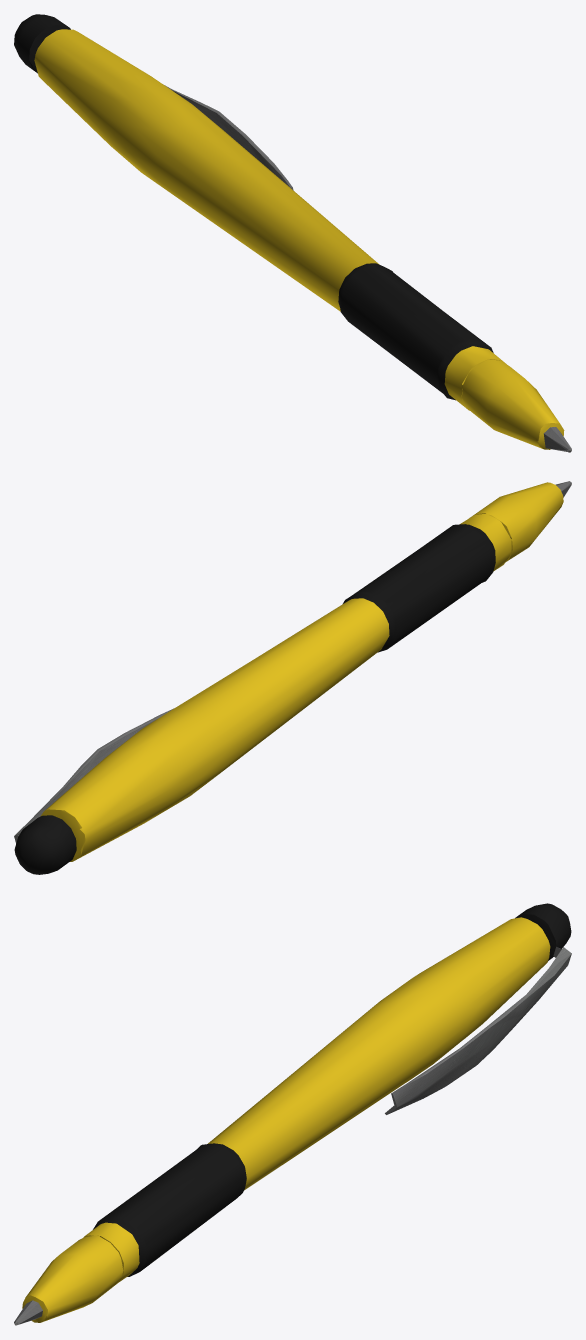
Rendered from Pen.fbx.
3 renders of one model, top to bottom at view 1: azimuth 30°, elevation 25°; view 2: azimuth 150°, elevation 25°; view 3: azimuth 330°, elevation 25°, orthographic. The views are drawn at different scales.
Parts seen in each view (by area): view 1: Pen; view 2: Pen; view 3: Pen.
Boxes of the visible parts, x1,y1,x2,y2 form: Pen: (14, 14, 571, 452); Pen: (14, 481, 571, 874); Pen: (14, 903, 571, 1325).
Size of the model in its own units: 1.61 by 1.19 by 15.44.
1 material, 1 textured.
